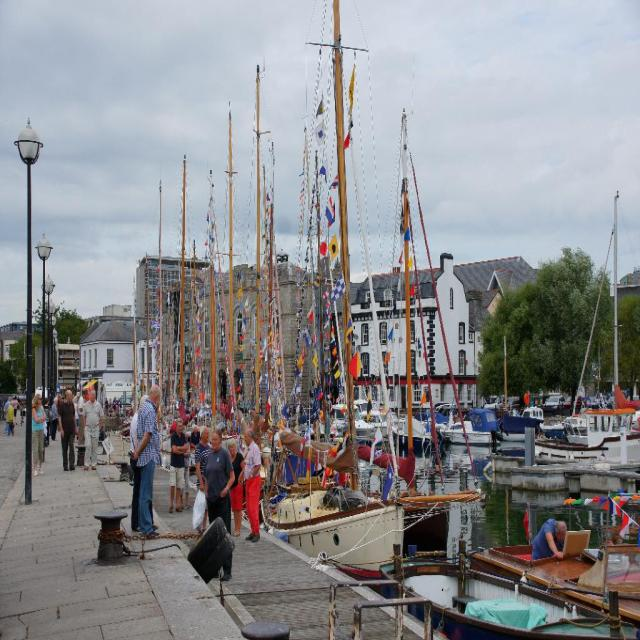Boat: (131, 7, 353, 522), (260, 0, 404, 592), (403, 552, 634, 640), (471, 530, 640, 623), (339, 393, 545, 462), (545, 386, 640, 466)
